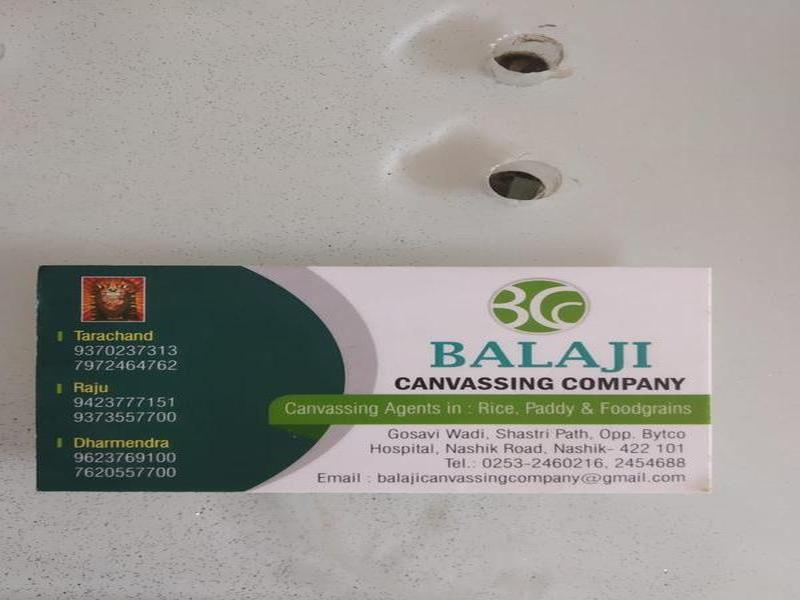card: (30, 263, 716, 493)
